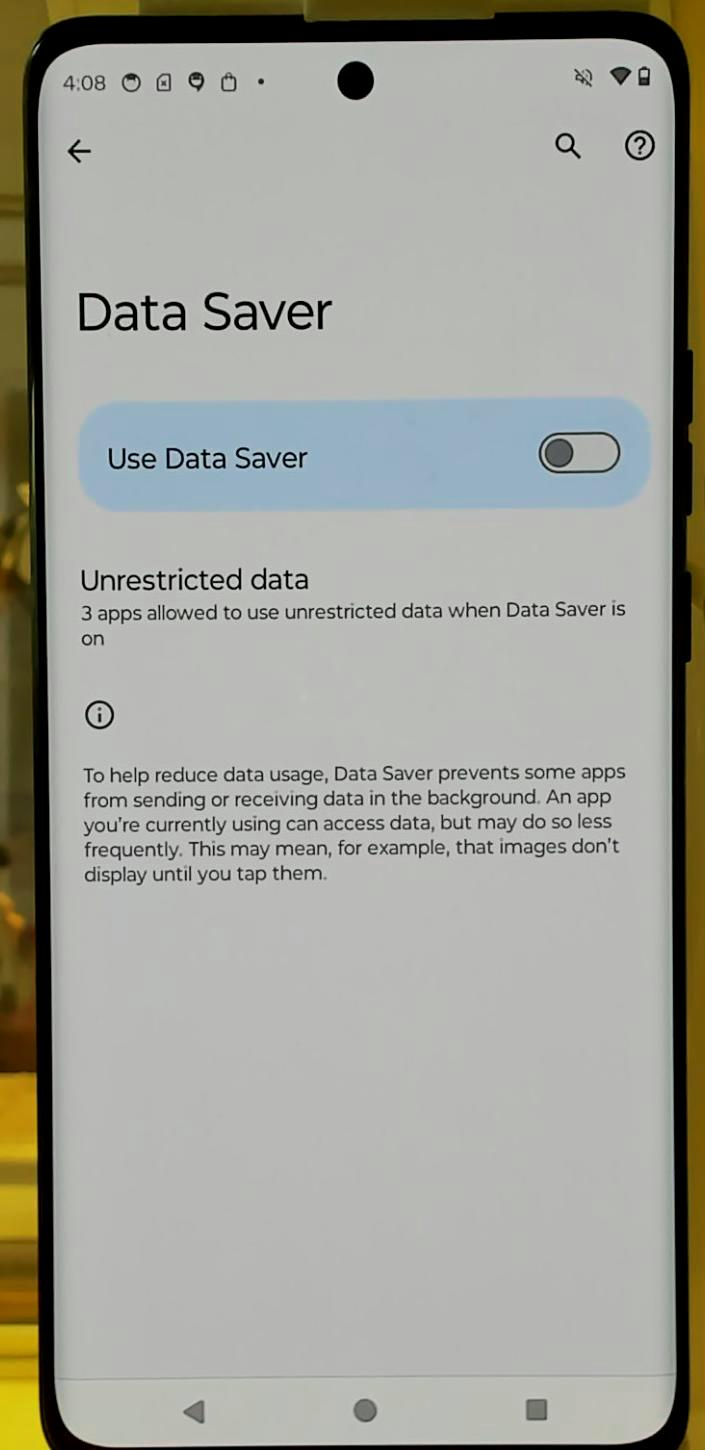Checkbox: (98, 423, 626, 497)
